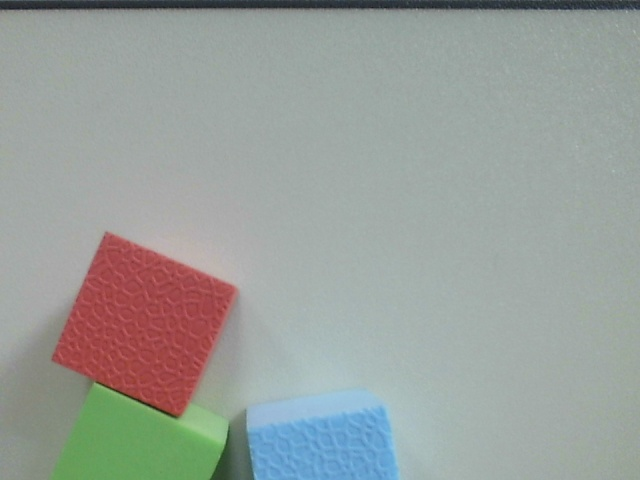greencube: (46, 377, 243, 480)
